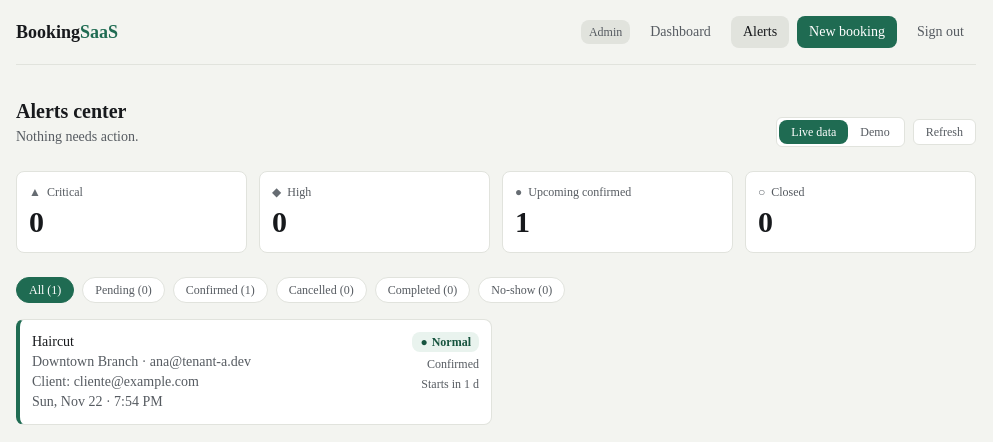
Test case: /alerts — real data › says so when a status has no bookings
Click the button "Pending (0)". click: (123, 290)
box: x1=82 y1=277 x2=165 y2=303
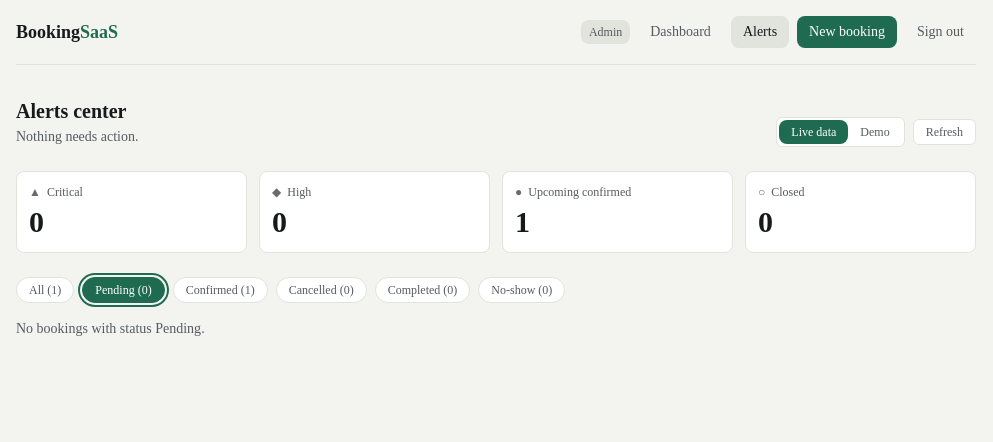
Expected: the text "No bookings with status Pending." is shown, x1=16 y1=321 x2=205 y2=336
